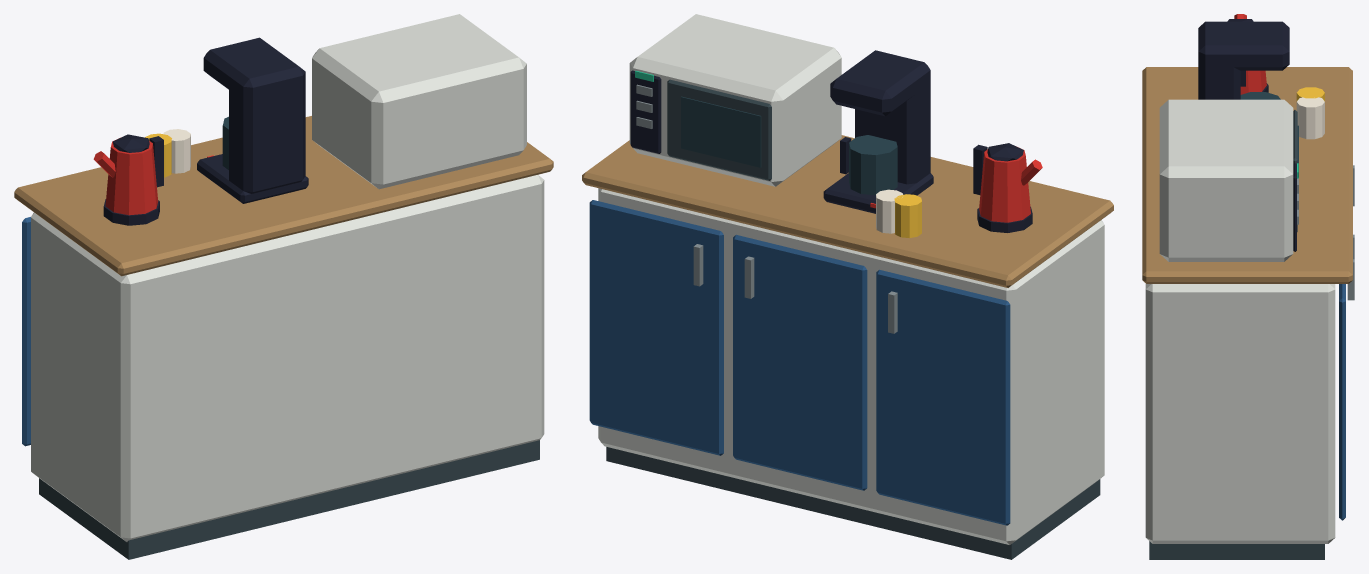
The model's file is sm_env_depot_kitchenette.glb.
3 renders of one model, left to right at view 1: azimuth 30°, elevation 25°; view 2: azimuth 150°, elevation 25°; view 3: azimuth 270°, elevation 25°, orthographic. The views are drawn at different scales.
Visible parts, largest first — view 1: Cabinet, Microwave, Worktop, Plinth, CoffeeTower, Kettle, CoffeeHead, Door, CoffeeBase, Mug.001, KettleBase; view 2: Cabinet, Door, Door.002, Door.001, Worktop, Microwave, Plinth, CoffeeTower, MicroWindow, MicroDoor, CoffeeHead, Kettle (+6 smaller); view 3: Cabinet, Microwave, Worktop, CoffeeTower, CoffeeHead, Plinth, Door.002, Mug.001, Kettle, MicroPanel, Mug, CoffeePot (+1 smaller).
Boxes of the visible parts, x1,y1,x2,y2 form: Cabinet: [31, 175, 544, 541]; Microwave: [312, 14, 526, 189]; Worktop: [14, 116, 553, 276]; Plinth: [39, 440, 539, 559]; CoffeeTower: [229, 56, 305, 193]; Kettle: [105, 137, 158, 215]; CoffeeHead: [203, 37, 284, 91]; Door: [22, 217, 30, 446]; CoffeeBase: [197, 154, 308, 203]; Mug.001: [163, 129, 190, 173]; KettleBase: [103, 199, 159, 225]; Cabinet: [598, 188, 1104, 544]; Door: [876, 269, 1010, 525]; Door.002: [589, 200, 723, 455]; Door.001: [733, 234, 867, 490]; Worktop: [582, 135, 1113, 287]; Microwave: [629, 14, 841, 186]; Plinth: [606, 447, 1100, 559]; CoffeeTower: [855, 50, 930, 184]; MicroWindow: [681, 96, 761, 167]; MicroDoor: [667, 79, 771, 180]; CoffeeHead: [830, 60, 919, 116]; Kettle: [979, 147, 1030, 222]; Cabinet: [1145, 283, 1335, 543]; Microwave: [1159, 99, 1293, 261]; Worktop: [1142, 67, 1352, 283]; CoffeeTower: [1198, 21, 1240, 99]; CoffeeHead: [1226, 21, 1289, 70]; Plinth: [1149, 541, 1324, 559]; Door.002: [1339, 284, 1345, 520]; Mug.001: [1296, 97, 1324, 139]; Kettle: [1240, 70, 1266, 94]; MicroPanel: [1293, 163, 1296, 251]; Mug: [1296, 87, 1324, 101]; CoffeePot: [1240, 92, 1280, 99].
Bounding box in the file's own units: 1.4 × 1.3 × 0.605.
